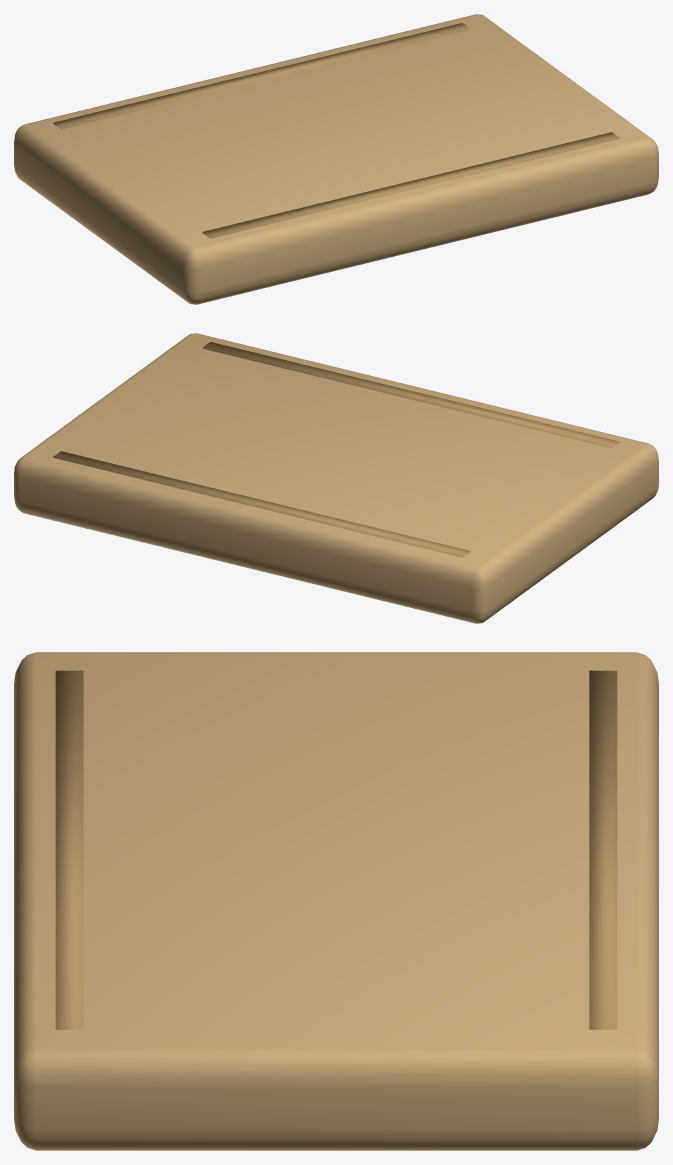
The model's file is cutting_board.glb.
3 renders of one model, top to bottom at view 1: azimuth 30°, elevation 25°; view 2: azimuth 150°, elevation 25°; view 3: azimuth 270°, elevation 25°, orthographic. The views are drawn at different scales.
Visible parts, largest first — view 1: Cube.003, Cube.004, Cube.005; view 2: Cube.003, Cube.005, Cube.004; view 3: Cube.003, Cube.004, Cube.005.
Boxes of the visible parts, x1,y1,x2,y2 form: Cube.003: [14, 14, 658, 304]; Cube.004: [53, 23, 470, 129]; Cube.005: [202, 132, 619, 238]; Cube.003: [14, 333, 658, 623]; Cube.005: [202, 342, 619, 448]; Cube.004: [53, 451, 470, 557]; Cube.003: [14, 652, 658, 1150]; Cube.004: [589, 670, 617, 1029]; Cube.005: [55, 670, 83, 1029].
Bounding box in the file's own units: 8.8 × 1.02 × 5.8.
